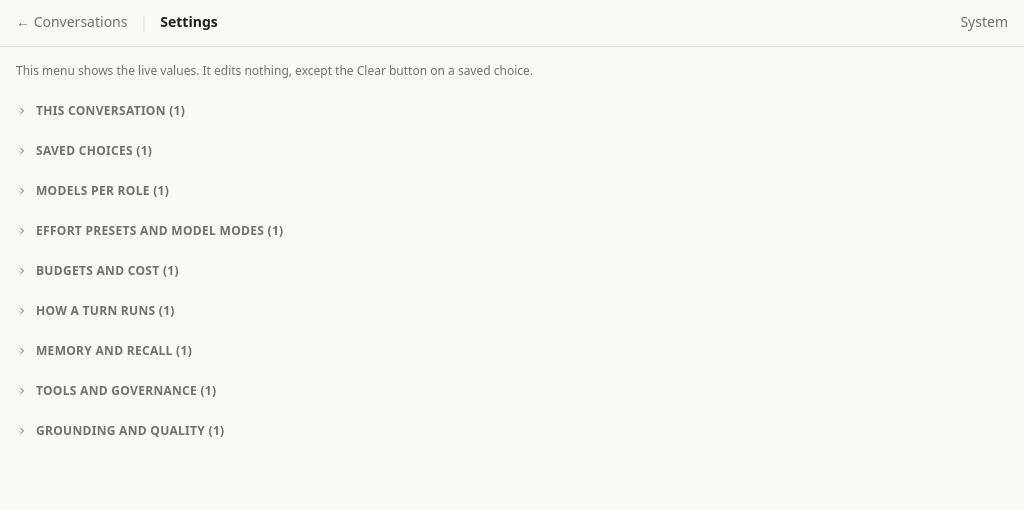
Test: accordion groups (FRE-1710) › AC-1: closes every group at first render, and a click opens only that group
Click the button "Budgets and cost (1)" at (98, 270), box [16,263,1008,279]
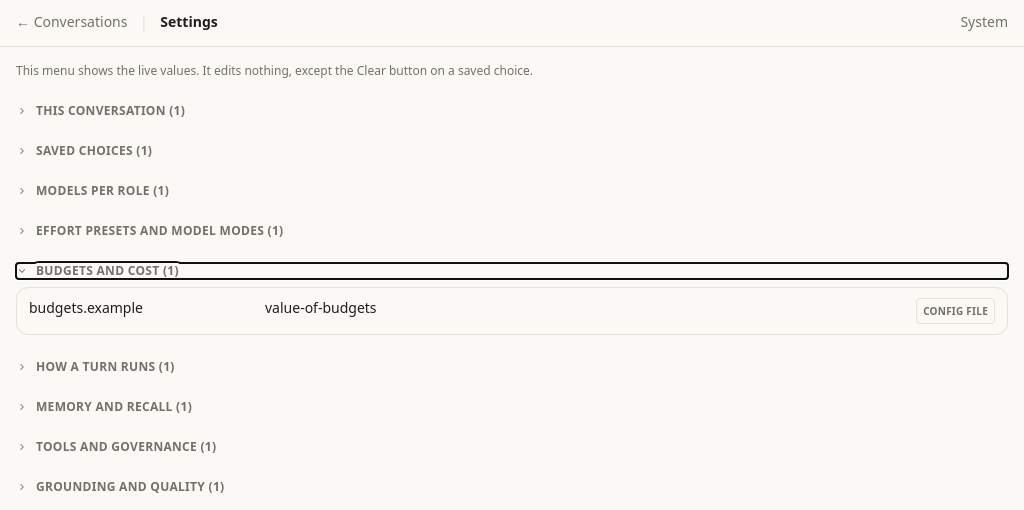
Check: the button "Budgets and cost (1)" is expanded, box [16,263,1008,279]
Check: the number of elements with test id "setting-row" is 1, box [29,298,995,324]
Check: the text "budgets.example" is shown, box [29,298,143,317]
